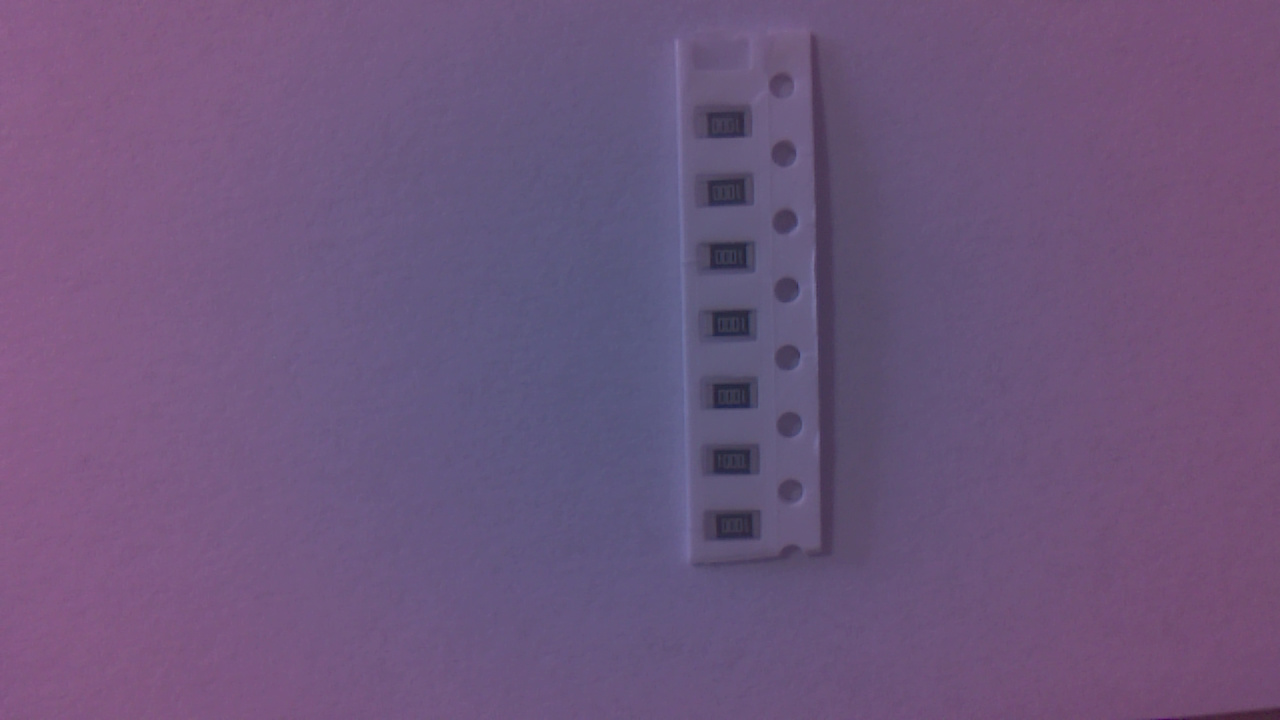Resistor: (707, 512, 766, 550), (706, 448, 770, 483), (702, 177, 763, 213), (708, 380, 768, 415), (702, 247, 765, 280), (699, 110, 761, 143), (706, 313, 764, 347)
